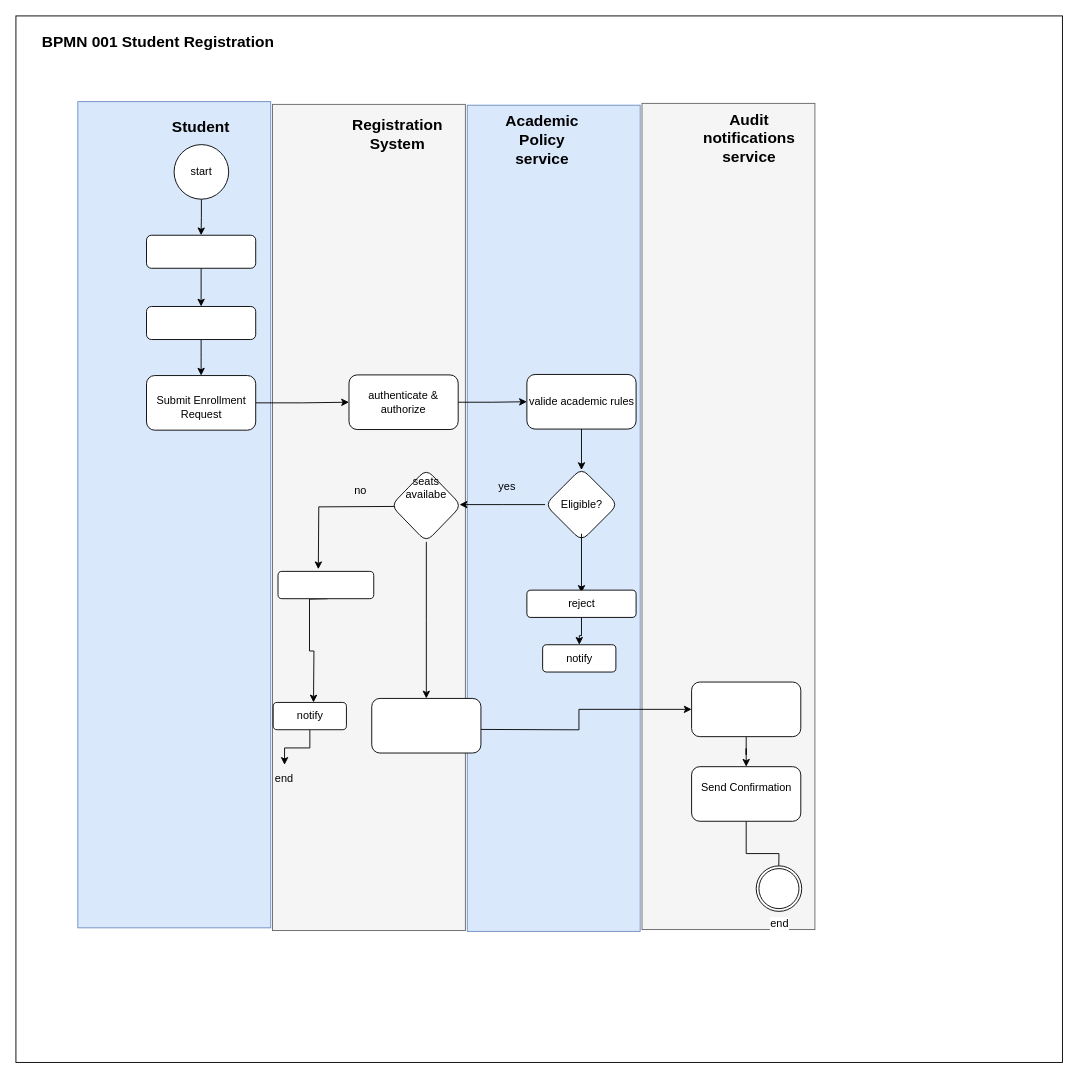
Image size: 1078x1078. Some labels were removed from this diagram. The shapes that lost their labels are listed below. From the top down, each one's centre as x and y in pixels, then its label:
the point at 201,251: Enter Credentials
the point at 201,323: select course
the point at 325,584: add to waiting list
the point at 426,725: Create Enrollment & Reserve Seat
the point at 746,709: record audit
